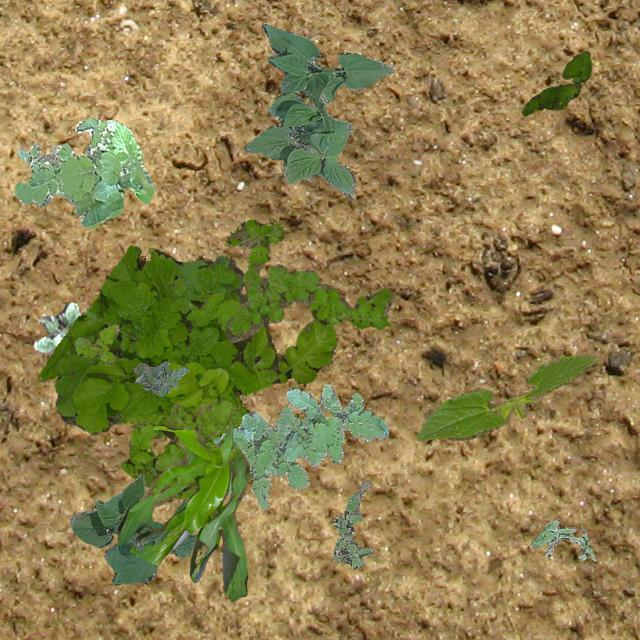crop: (242, 22, 392, 198), (116, 422, 248, 600), (414, 354, 596, 441), (68, 474, 195, 584)
weed: (37, 244, 336, 452), (212, 384, 388, 508), (225, 218, 392, 342), (13, 116, 154, 228), (120, 398, 230, 498), (520, 50, 590, 116), (331, 480, 372, 568), (33, 302, 86, 354), (530, 518, 594, 560), (132, 360, 188, 396), (74, 324, 118, 364), (16, 140, 62, 172), (327, 154, 338, 162)
